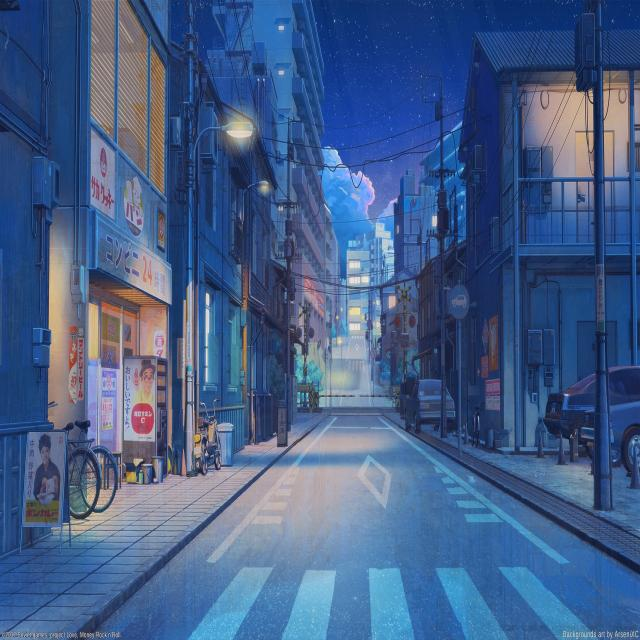Street Light: (194, 121, 253, 469), (244, 181, 268, 447)
